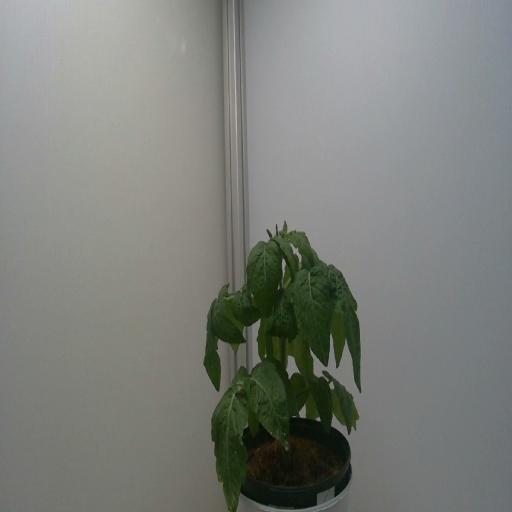Tomato-Leaves-Cupboard-: (329, 260, 375, 393), (238, 358, 293, 453), (210, 380, 248, 502), (292, 265, 338, 358), (243, 226, 281, 322), (288, 327, 320, 397), (208, 296, 246, 354), (199, 309, 225, 391), (332, 373, 362, 443), (259, 309, 289, 370), (307, 375, 335, 438), (288, 224, 315, 266)
